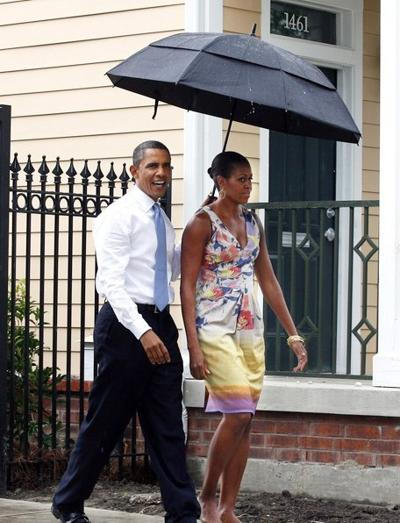person: (51, 140, 203, 523)
